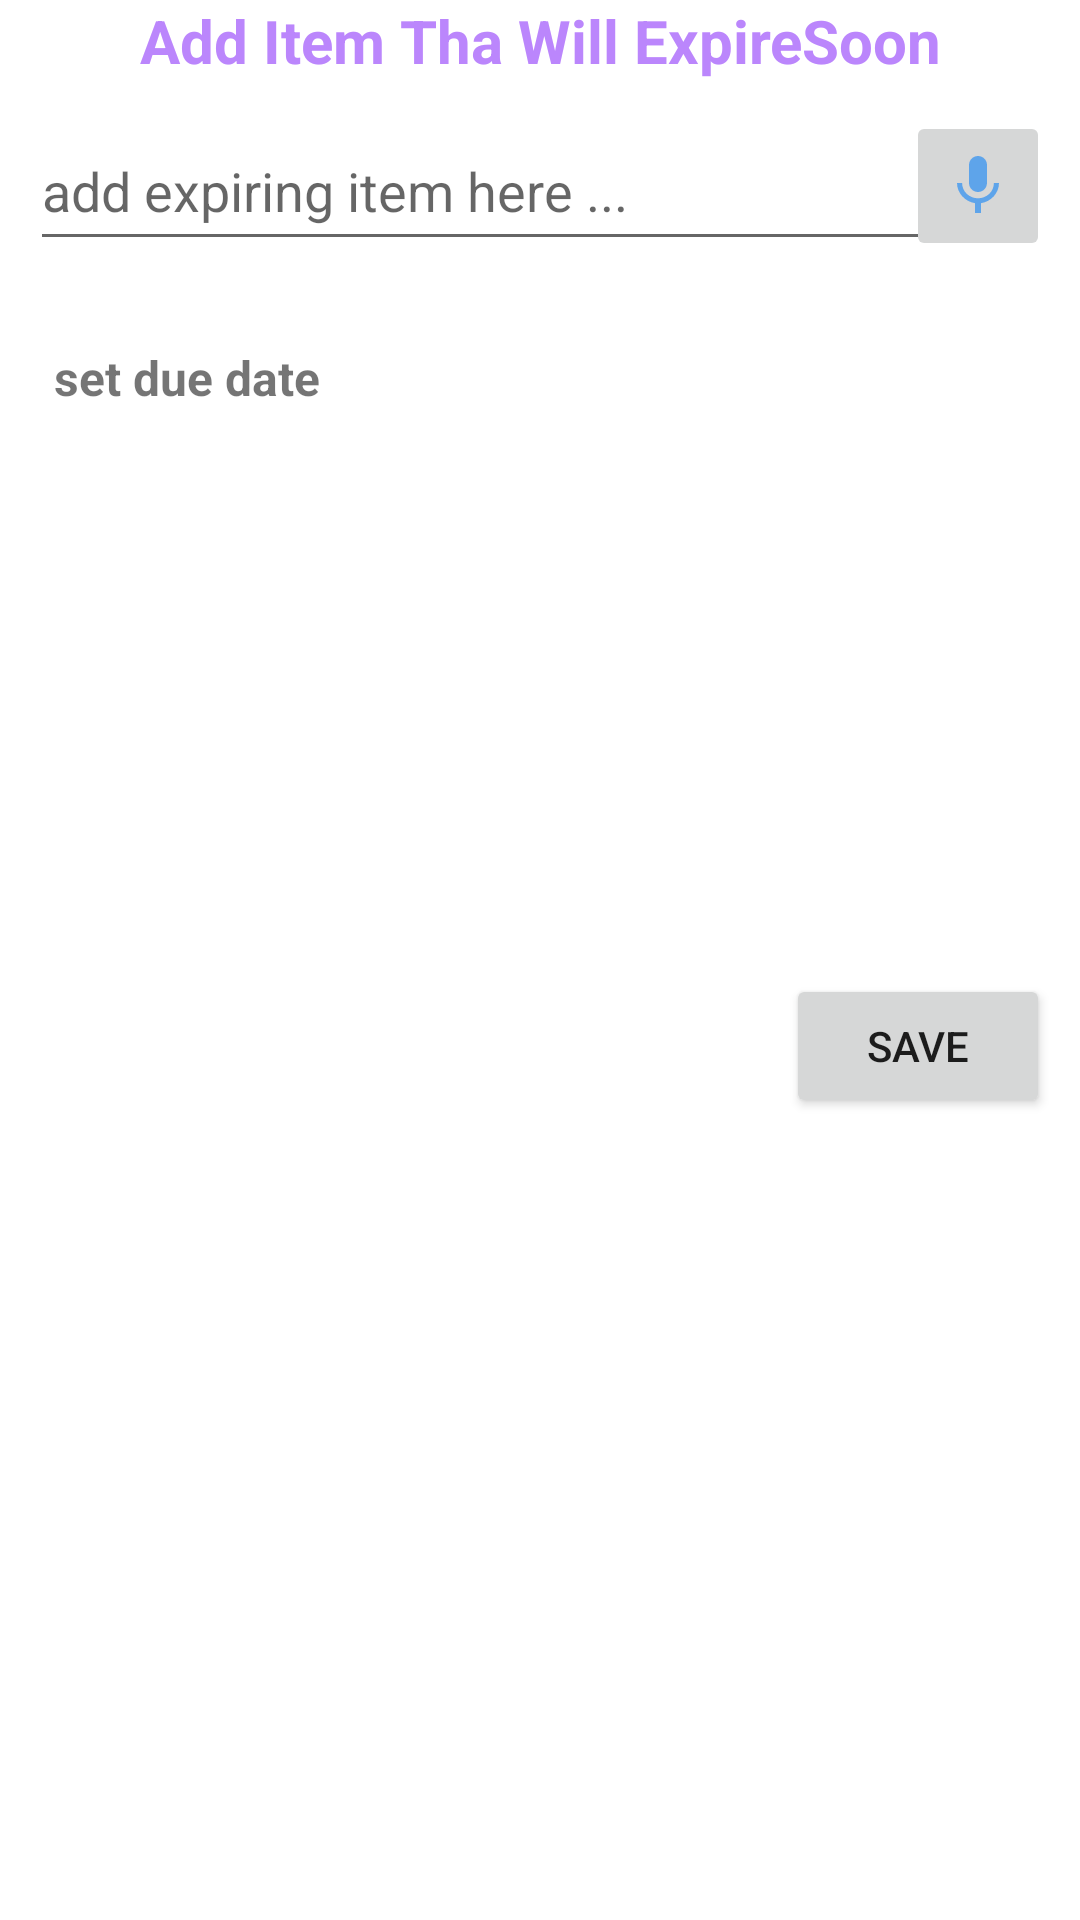

Named icons in this screenshot (1080px x 1920px) and their bounding boxes, bbox=(x1, y1, x2, y2):
mic: bbox=(906, 129, 1038, 243)
